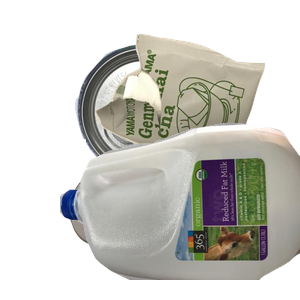glass: (67, 172, 229, 300)
metal: (73, 42, 277, 212)
plastic: (60, 120, 300, 300)
trash: (93, 31, 300, 205)
